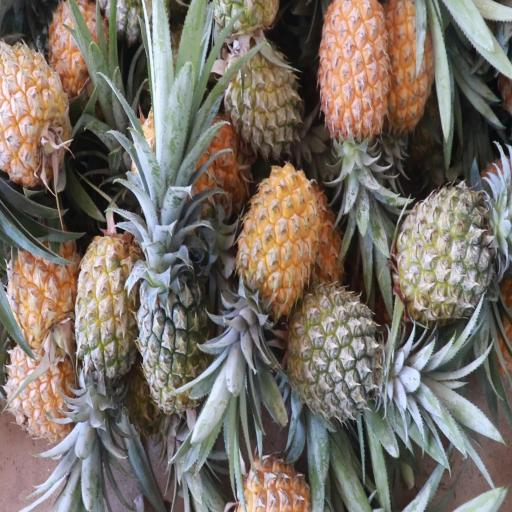------------------------------: (75, 234, 139, 406)
Pineapple - v8 v1: (320, 0, 391, 234), (242, 158, 314, 386), (0, 49, 99, 182), (4, 218, 85, 351), (48, 0, 118, 106), (387, 0, 435, 147), (5, 352, 82, 440)
